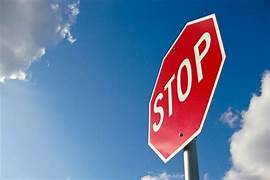stop: (148, 13, 221, 162)
